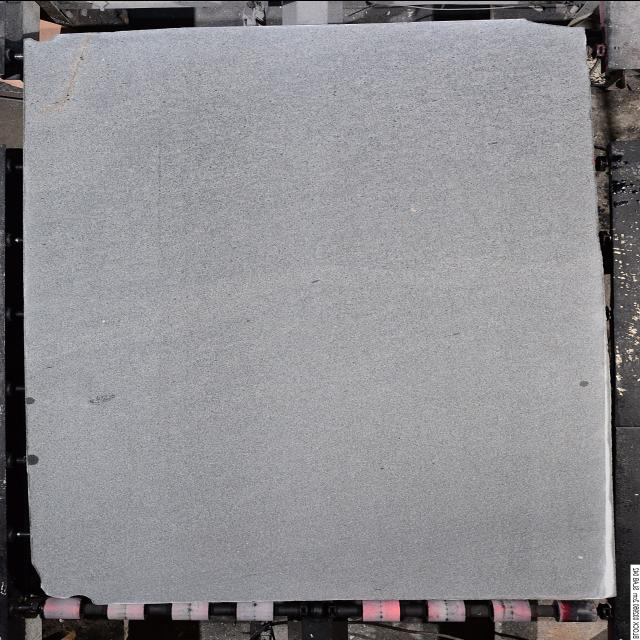chapa: (23, 19, 613, 602)
